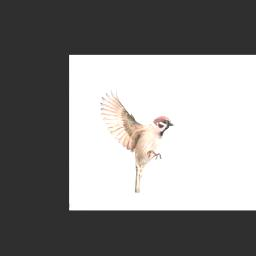Sparrow: (100, 87, 174, 193)
